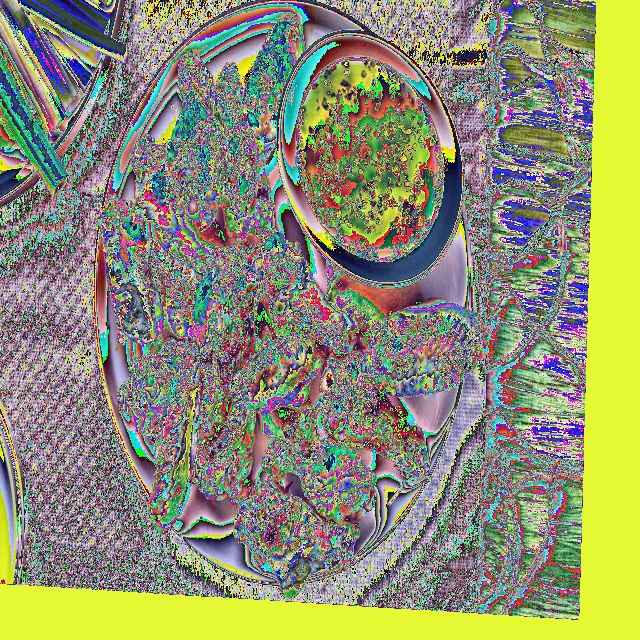background: (97, 13, 489, 599), (148, 57, 443, 261), (0, 0, 128, 197)
